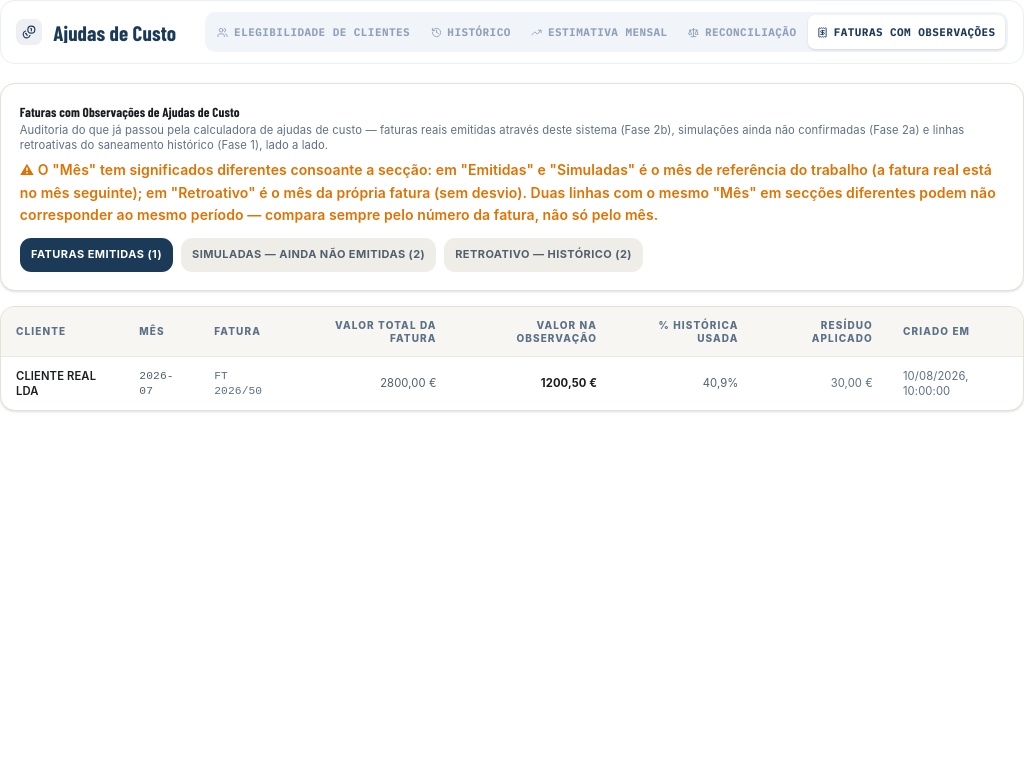
Test: FaturasComObservacoesTab › alterna para a secção retroativa (histórico) e mostra as linhas de origem="historico"
The width and height of the screenshot is (1024, 768).
Check: the text "FT 2026/50" is shown, box top-left (199, 357), bottom-right (293, 410)
Click the button "Retroativo — Histórico (2)": click(544, 255) top-left (444, 238), bottom-right (643, 272)
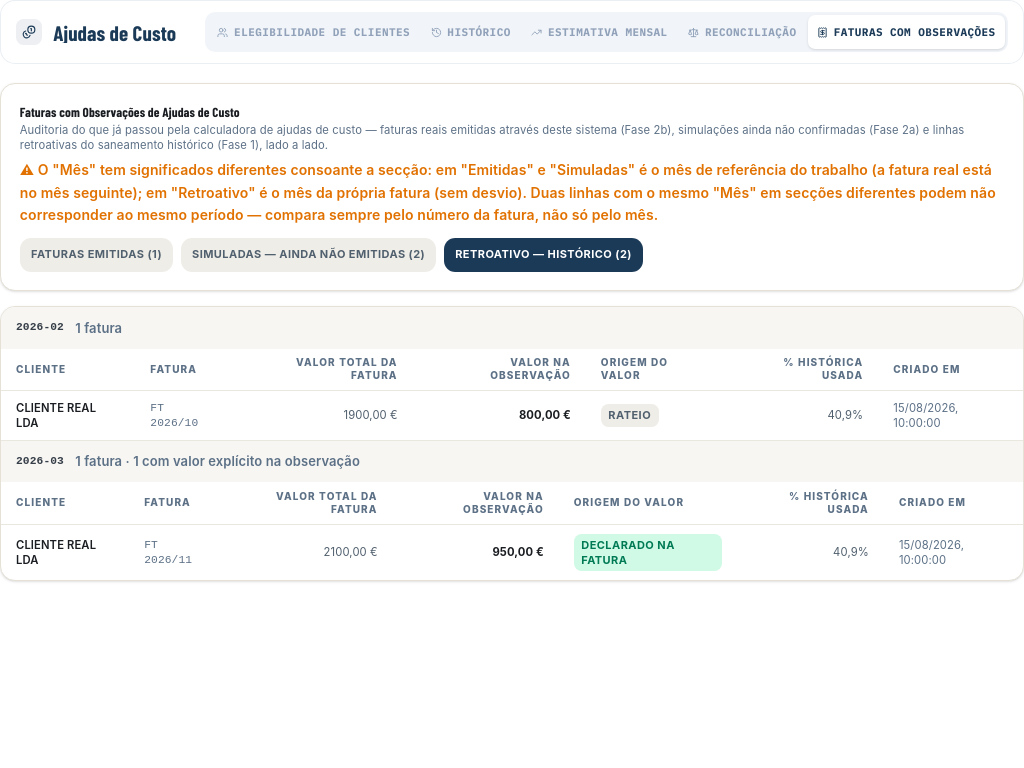
Check: the text "FT 2026/10" is shown, box top-left (135, 391), bottom-right (233, 440)
Check: the text "FT 2026/50" is gone
